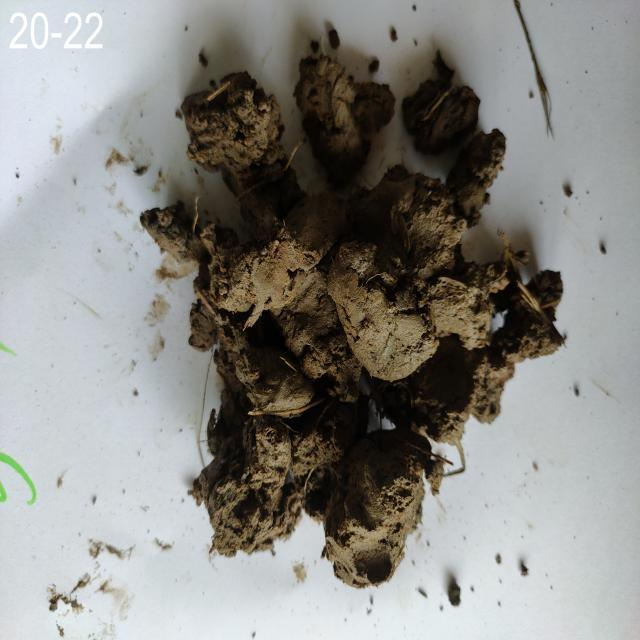soil: (246, 243, 413, 528)
